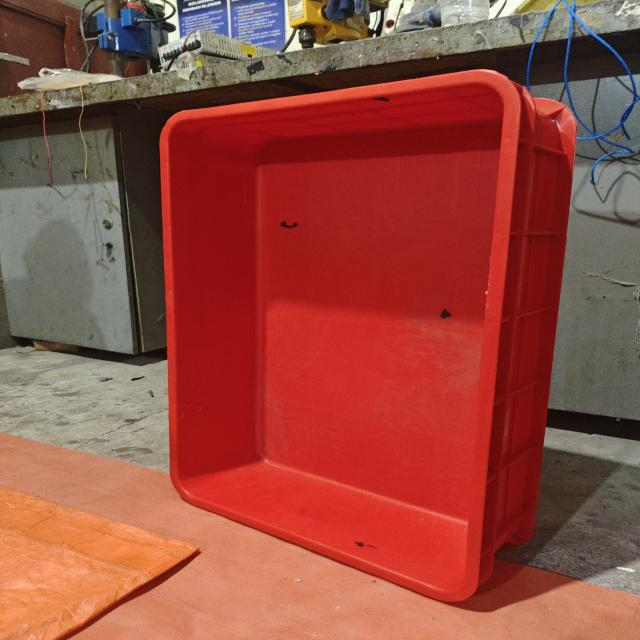red plastic box: (159, 68, 578, 603)
